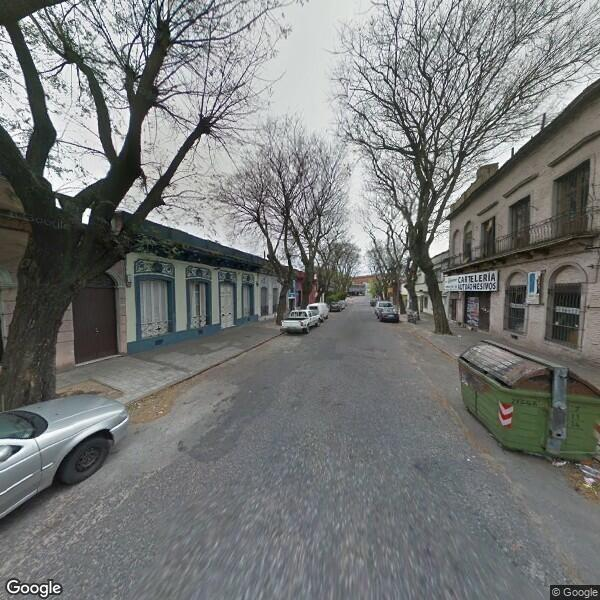Dechets: (459, 338, 599, 464), (575, 462, 599, 480), (552, 462, 570, 469)
